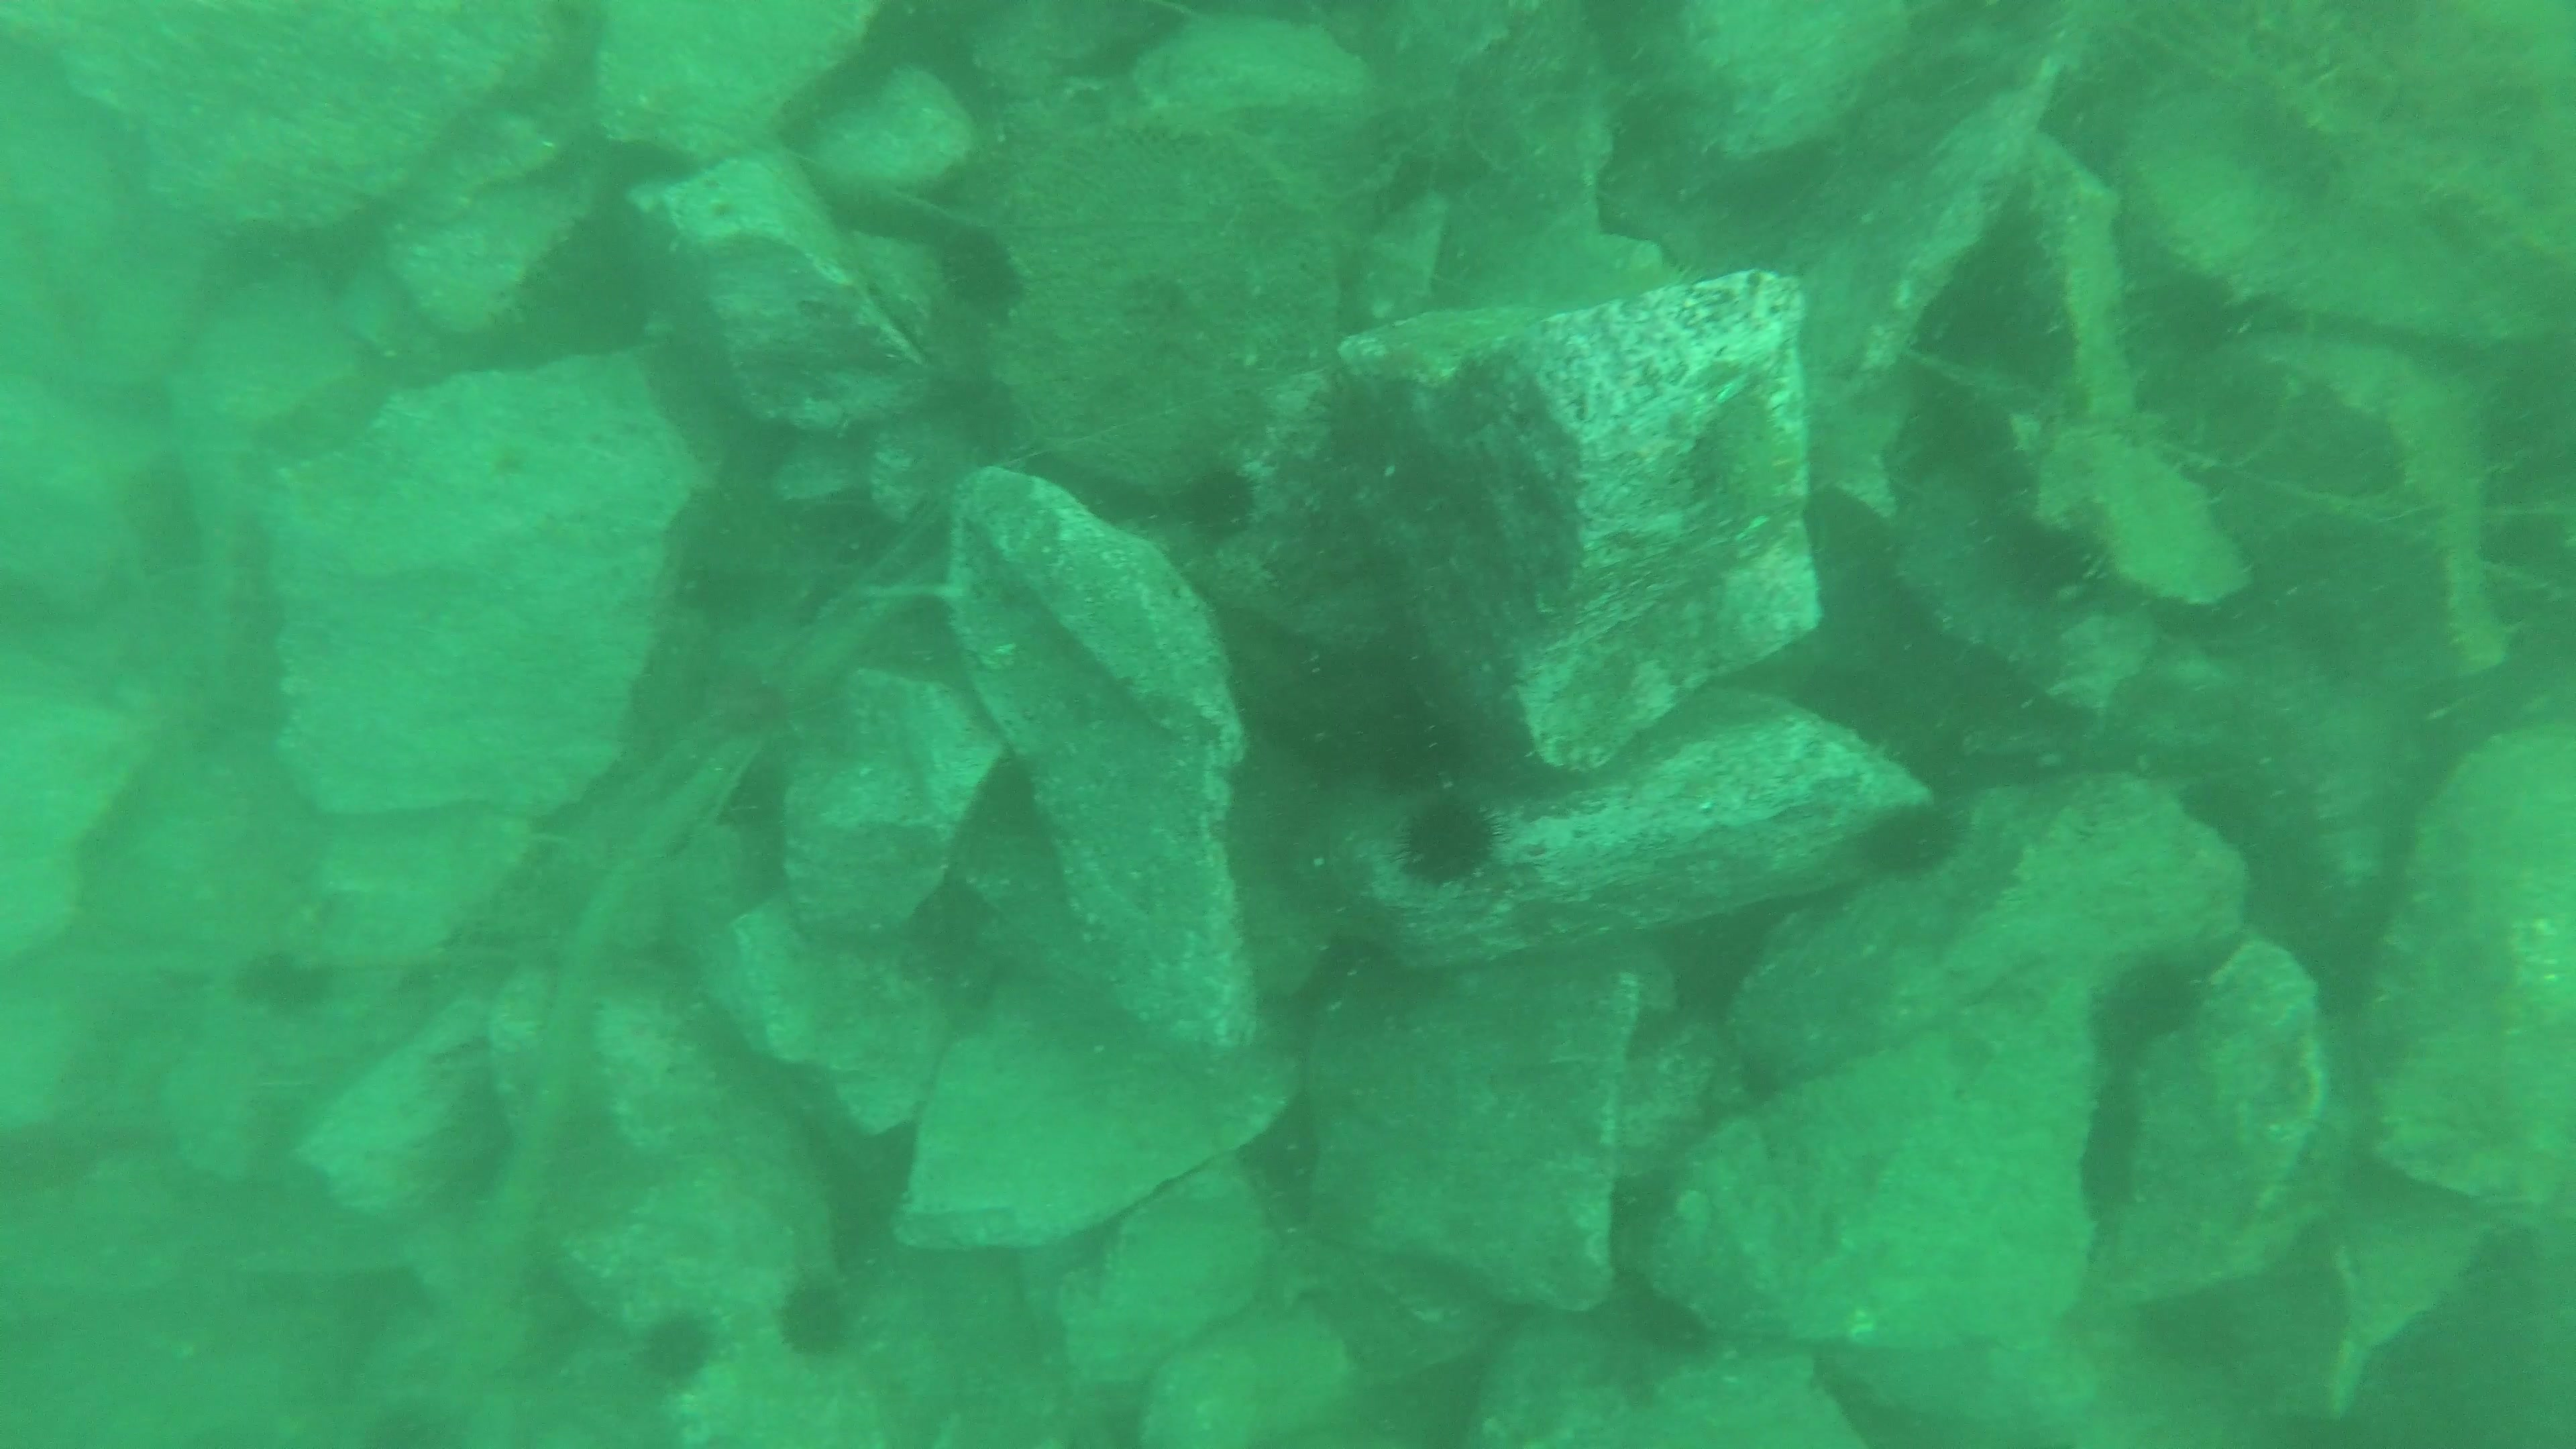echinus: (235, 939, 327, 1021), (1405, 800, 1499, 878), (1867, 805, 1960, 879), (938, 230, 1019, 308), (642, 1311, 717, 1392), (777, 1277, 844, 1364), (1189, 464, 1263, 538)
